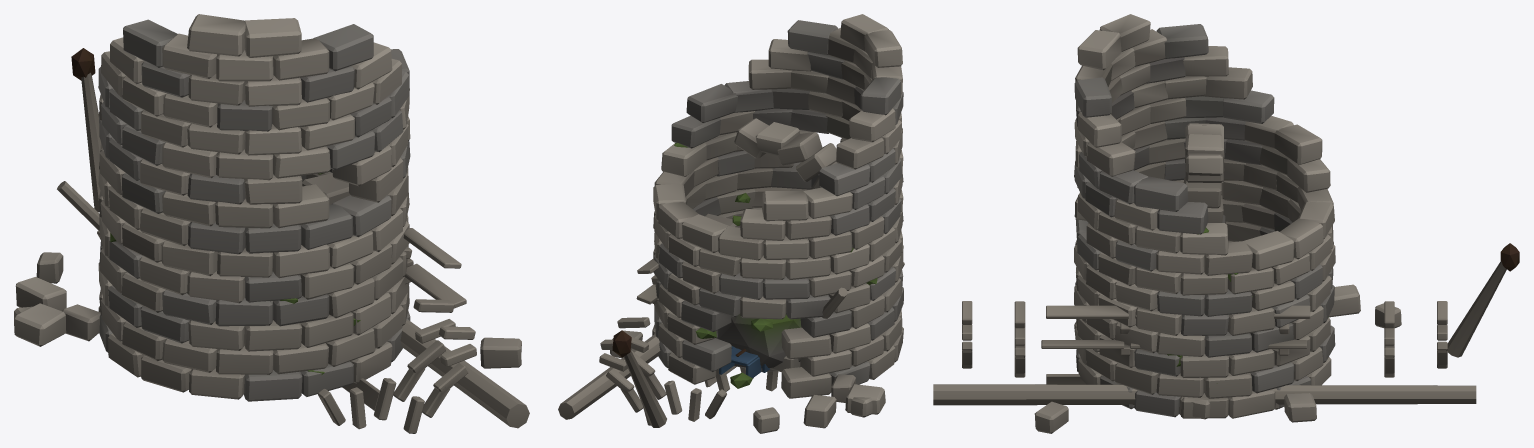
The model's file is paysages.glb.
The picture shows the model from 3 angles, left to right: view 1: azimuth 30°, elevation 25°; view 2: azimuth 150°, elevation 25°; view 3: azimuth 270°, elevation 25°; orthographic projection. The views are drawn at different scales.
Visible parts, largest first — view 1: D_tour, D_epave, D_arche; view 2: D_tour, D_epave, D_arche, D_rocher2, D_barque; view 3: D_tour, D_epave, D_arche.
Part boxes in pixels (x1,y1,x2,y2): D_tour: [14, 14, 521, 401]; D_epave: [57, 48, 529, 433]; D_arche: [302, 171, 350, 204]; D_tour: [610, 14, 903, 433]; D_epave: [558, 258, 904, 427]; D_arche: [705, 118, 836, 227]; D_rocher2: [715, 313, 801, 371]; D_barque: [719, 346, 769, 378]; D_tour: [1034, 14, 1401, 433]; D_epave: [933, 243, 1519, 405]; D_arche: [1183, 123, 1279, 409].
Bounding box in the file's own units: 9.17 × 9.98 × 15.56.
